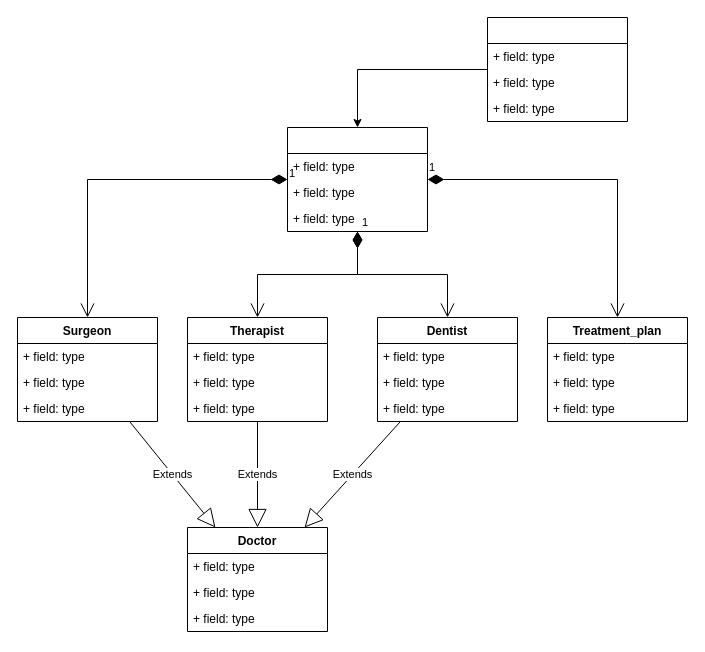
Image size: 705x652. Some labels were removed from this diagram. Each missing label, with the box of its shape:
Clinic: (286, 126, 428, 232)
Patient: (486, 16, 628, 122)
